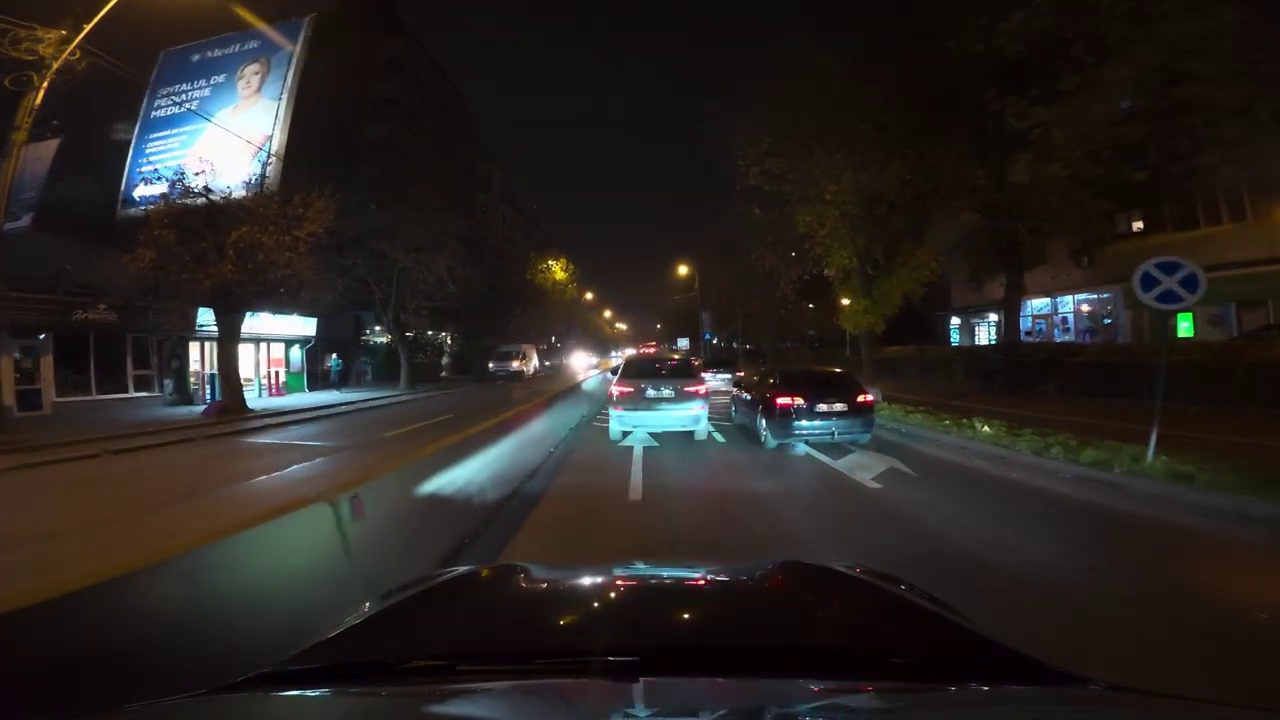acesa: (543, 257, 572, 285), (671, 259, 696, 283)
